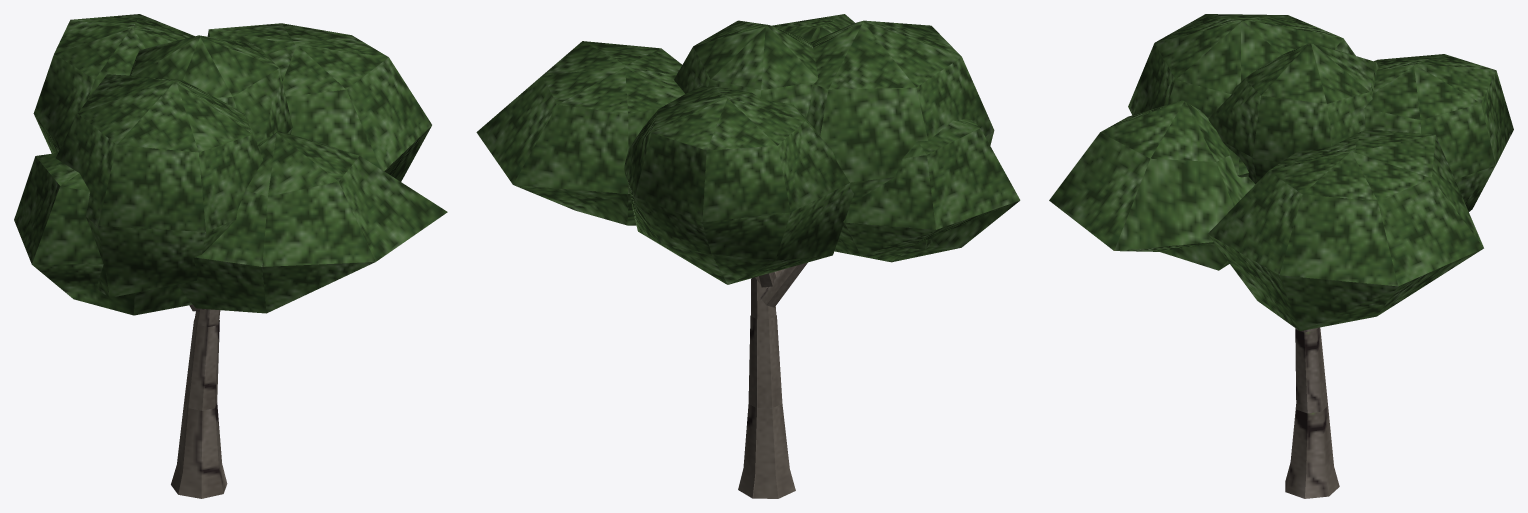
Rendered from oak.obj.
3 renders of one model, left to right at view 1: azimuth 30°, elevation 25°; view 2: azimuth 150°, elevation 25°; view 3: azimuth 270°, elevation 25°, orthographic. The views are drawn at different scales.
Visible parts, largest first — view 1: oak_crown, oak; view 2: oak_crown, oak; view 3: oak_crown, oak.
Part boxes in pixels (left/top/right/bottom): oak_crown: left=14, top=14, right=447, bottom=326; oak: left=171, top=319, right=227, bottom=498; oak_crown: left=476, top=14, right=1020, bottom=319; oak: left=738, top=315, right=795, bottom=498; oak_crown: left=1049, top=14, right=1513, bottom=332; oak: left=1285, top=327, right=1339, bottom=498.
Bounding box in the file's own units: 7.45 × 7.18 × 6.82.
1 material, 1 textured.
